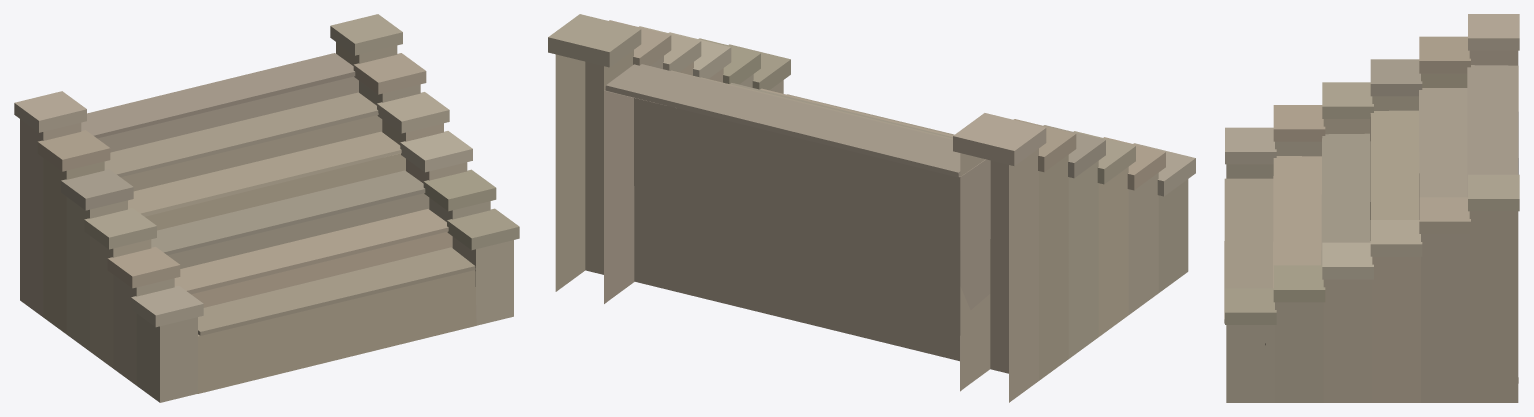
Rendered from escalera_recta.glb.
3 renders of one model, left to right at view 1: azimuth 30°, elevation 25°; view 2: azimuth 150°, elevation 25°; view 3: azimuth 270°, elevation 25°, orthographic. The views are drawn at different scales.
Parts seen in each view (by area): view 1: escalera_recta_fijo; view 2: escalera_recta_fijo; view 3: escalera_recta_fijo.
Boxes of the visible parts, x1,y1,x2,y2 form: escalera_recta_fijo: [14, 14, 519, 402]; escalera_recta_fijo: [548, 14, 1195, 402]; escalera_recta_fijo: [1224, 14, 1519, 402].
Size of the model in its own units: 2.88 by 1.5 by 1.94.
